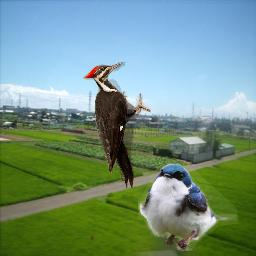Swallow: (138, 163, 238, 251)
Woodpecker: (83, 62, 151, 190)
